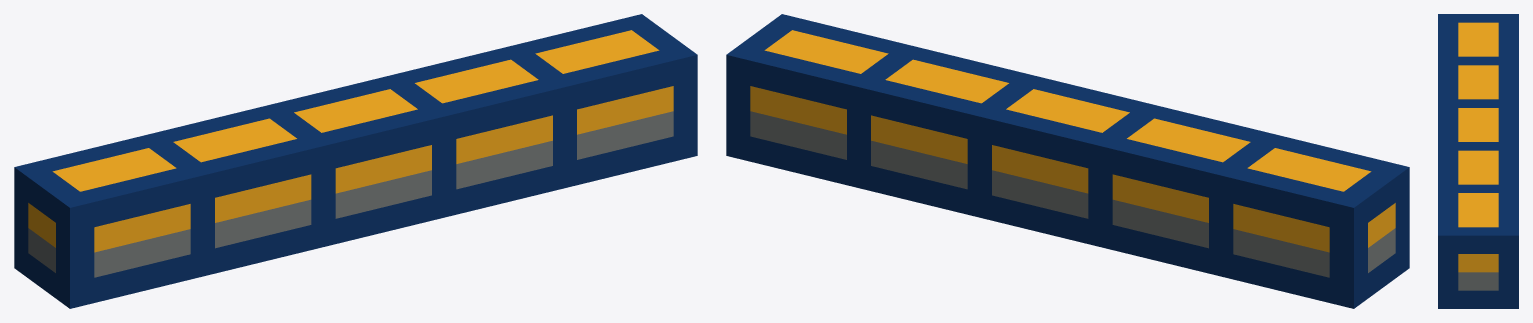
Rendered from segmeter_5.gltf.
3 renders of one model, left to right at view 1: azimuth 30°, elevation 25°; view 2: azimuth 150°, elevation 25°; view 3: azimuth 270°, elevation 25°, orthographic. The views are drawn at different scales.
Size of the model in its own units: 2.6 by 0.4 by 0.4.
Materials: 1 (1 with a texture image).
